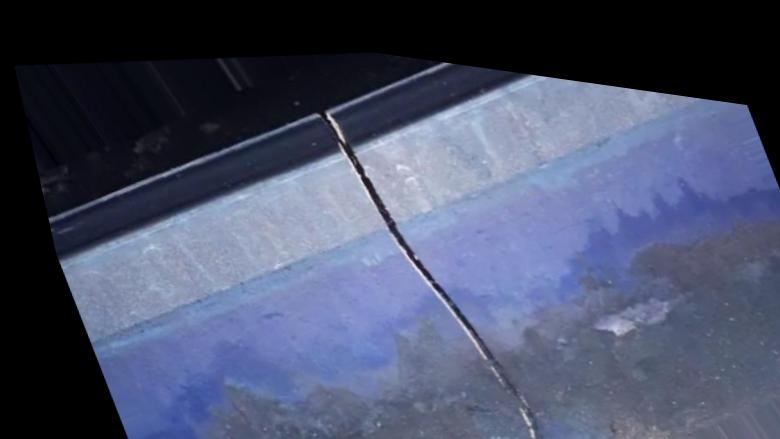person: (167, 19, 666, 439)
